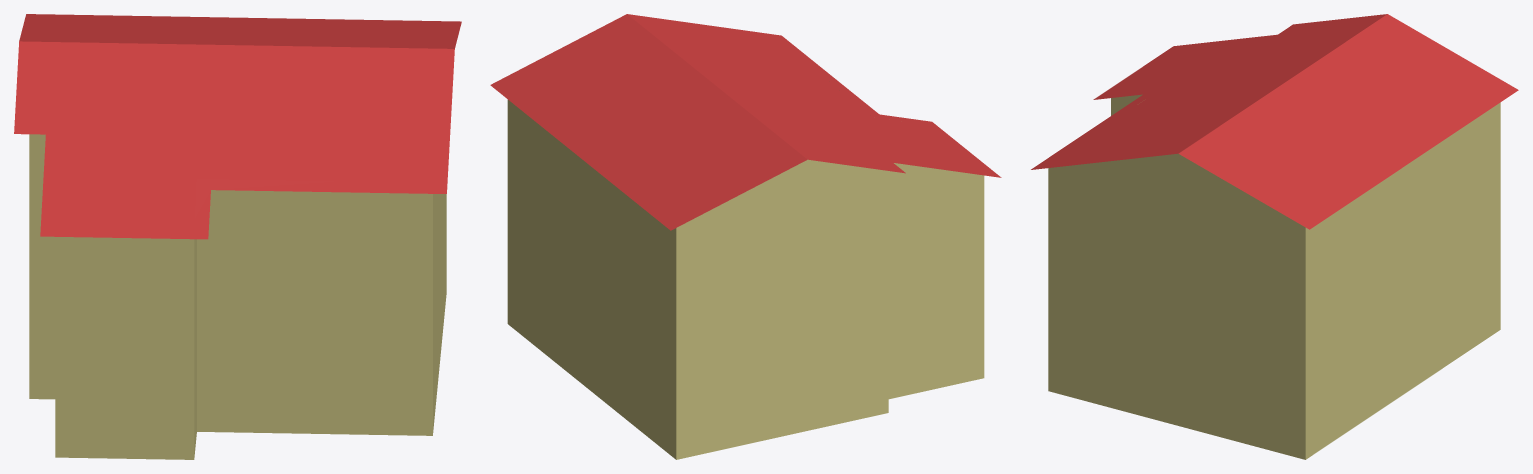
3 views of the same model, side by side, from view 1: azimuth 30°, elevation 25°; view 2: azimuth 150°, elevation 25°; view 3: azimuth 270°, elevation 25° (orthographic). The views are drawn at different scales.
Bounding box in the file's own units: 19.61 × 18.6 × 11.7.
